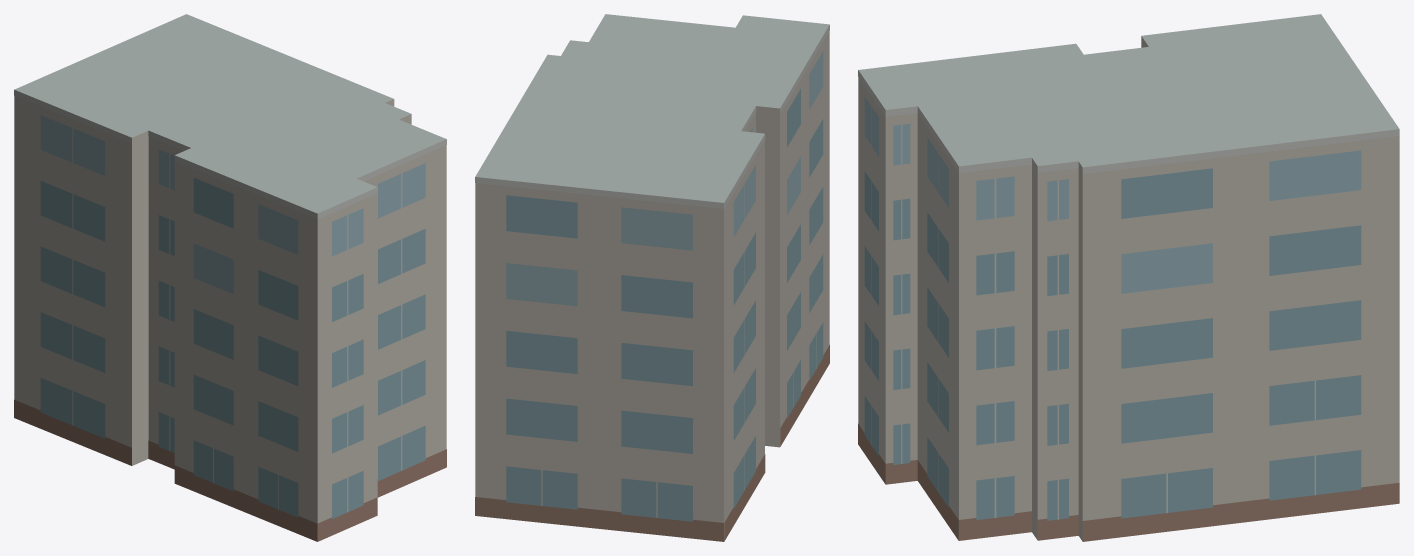
The model's file is survey-upis-32611064.glb.
3 views of the same model, side by side, from view 1: azimuth 30°, elevation 25°; view 2: azimuth 150°, elevation 25°; view 3: azimuth 270°, elevation 25° (orthographic). The views are drawn at different scales.
Visible parts, largest first — view 1: survey-upis-32611064.tmp; view 2: survey-upis-32611064.tmp; view 3: survey-upis-32611064.tmp.
Part boxes in pixels (box(x1,y1,x2,y2)): survey-upis-32611064.tmp: box(14, 14, 446, 541); survey-upis-32611064.tmp: box(475, 14, 829, 541); survey-upis-32611064.tmp: box(858, 14, 1399, 541).
Bounding box in the file's own units: 12 × 13.65 × 17.89.
